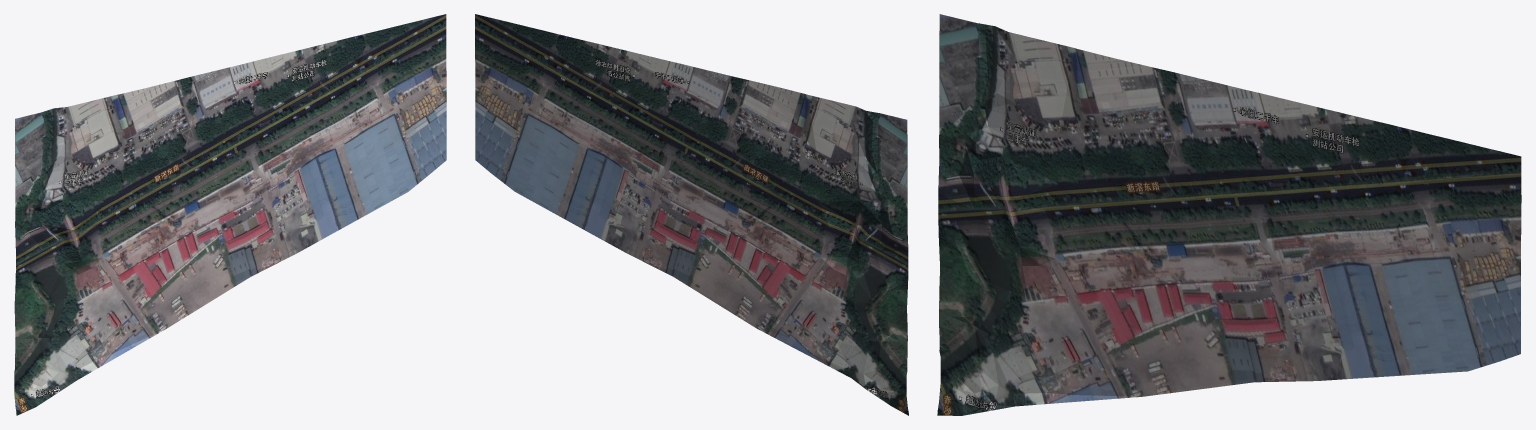
3 renders of one model, left to right at view 1: azimuth 30°, elevation 25°; view 2: azimuth 150°, elevation 25°; view 3: azimuth 330°, elevation 25°, orthographic. The views are drawn at different scales.
Visible parts, largest first — view 1: 0_2_1_2_2_3; view 2: 0_2_1_2_2_3; view 3: 0_2_1_2_2_3.
Part boxes in pixels (x1,y1,x2,y2): 0_2_1_2_2_3: (14, 14, 446, 415); 0_2_1_2_2_3: (475, 14, 908, 415); 0_2_1_2_2_3: (937, 14, 1521, 415).
Bounding box in the file's own units: 486 × 319 × 10.36.
1 material, 1 textured.
